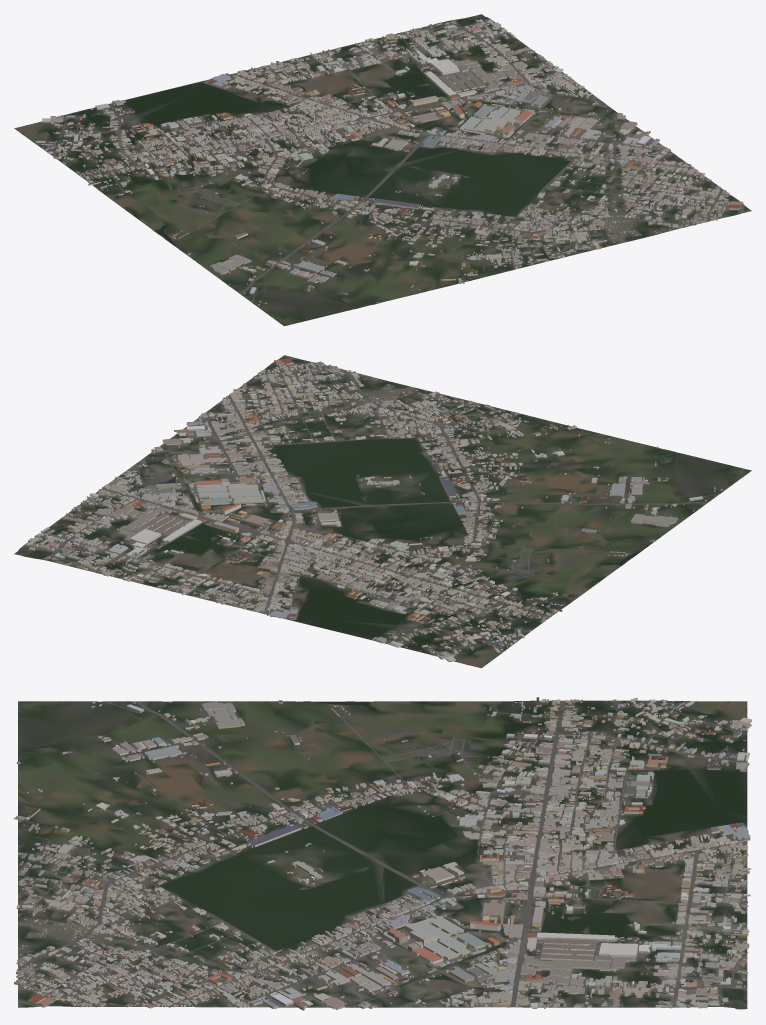
The picture shows the model from 3 angles, top to bottom: view 1: azimuth 30°, elevation 25°; view 2: azimuth 150°, elevation 25°; view 3: azimuth 270°, elevation 25°; orthographic projection. The views are drawn at different scales.
Parts seen in each view (by area): view 1: ground, buildings, roads; view 2: ground, buildings, roads; view 3: ground, buildings, roads, water.
Boxes of the visible parts, left/top/right/bottom form: ground: left=14, top=14, right=751, bottom=326; buildings: left=35, top=19, right=743, bottom=305; roads: left=53, top=20, right=724, bottom=302; ground: left=14, top=355, right=751, bottom=668; buildings: left=25, top=358, right=722, bottom=661; roads: left=24, top=365, right=718, bottom=654; ground: left=18, top=700, right=747, bottom=1009; buildings: left=14, top=697, right=751, bottom=1010; roads: left=16, top=700, right=747, bottom=1007; water: left=18, top=701, right=746, bottom=1008.
Bounding box in the file's own units: 2842 × 36.77 × 2834.
